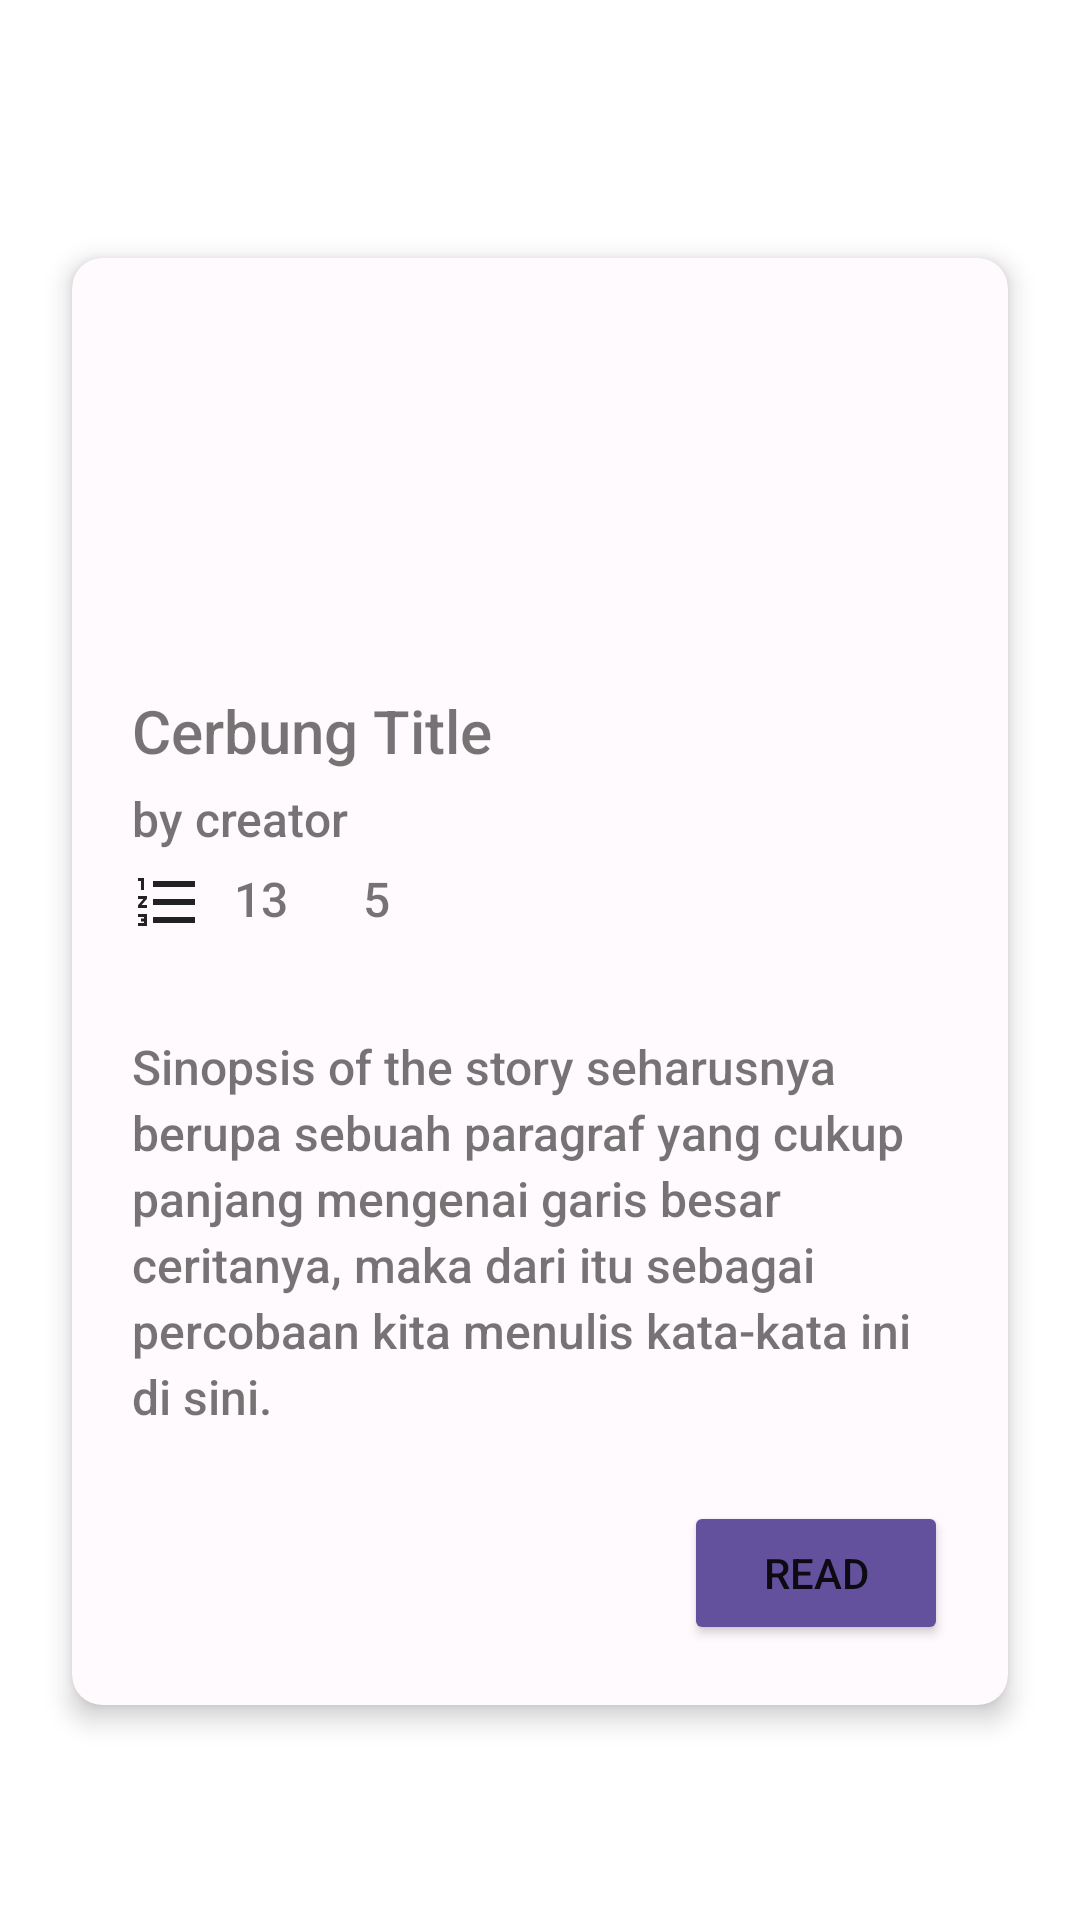

Icons on this 1080px×1920px Android screen, each with the point to tap as (x,y):
format list numbered: (166,902)
